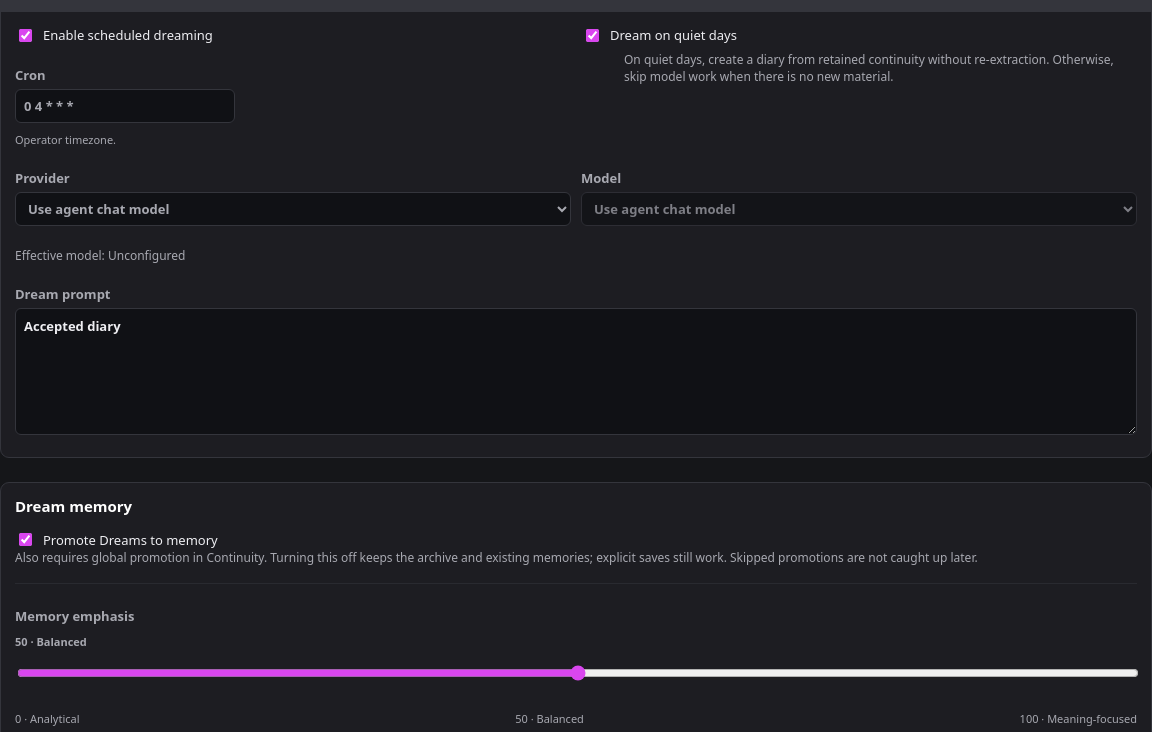
Scenario: validates complete text scope on blur without writing and preserves the invalid draft
(page scrolled)
Replace the text in the field labelled "Cron" with "invalid cron" at (125, 106), box [15, 89, 235, 123]
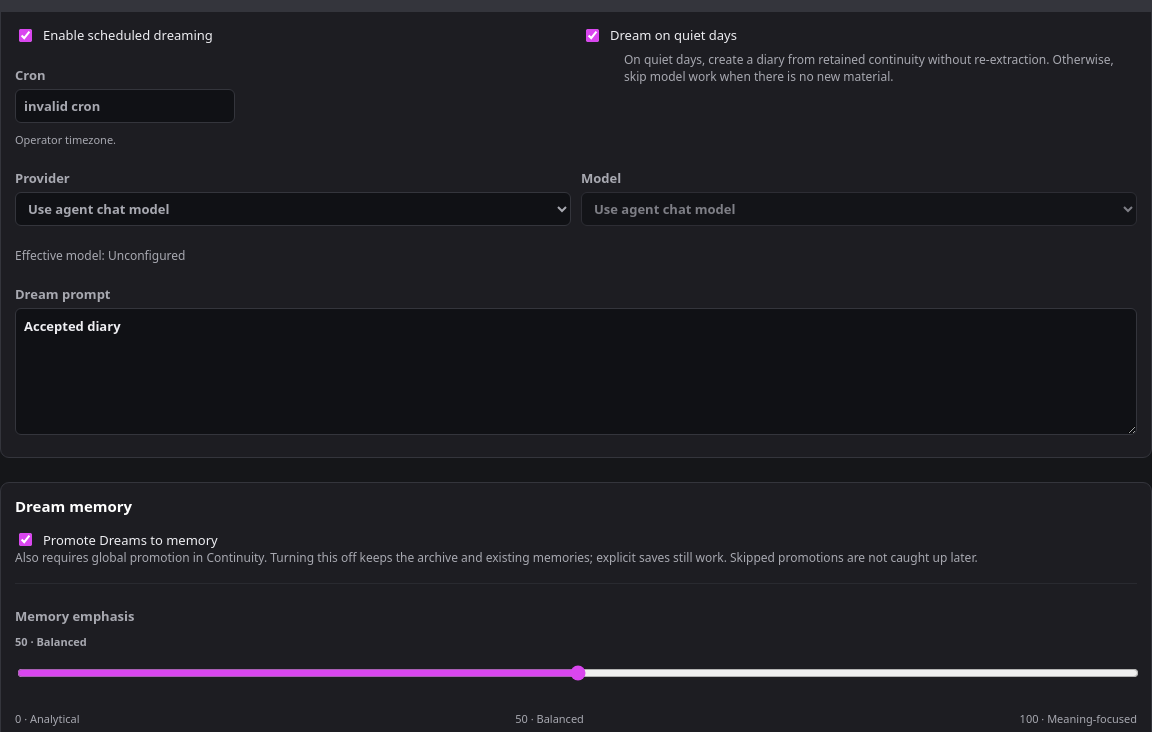
Leave the field labelled "Cron", box [15, 89, 235, 123]
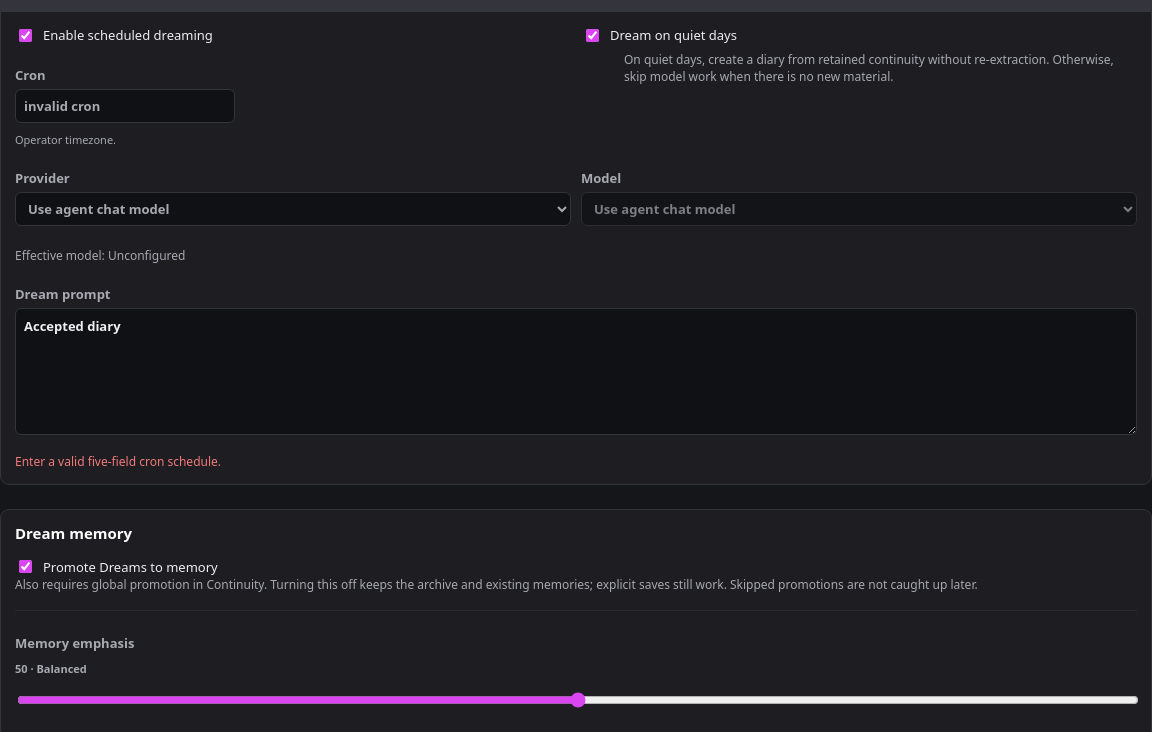
Result: the message shows "valid five-field cron" at [15, 454, 221, 470]
